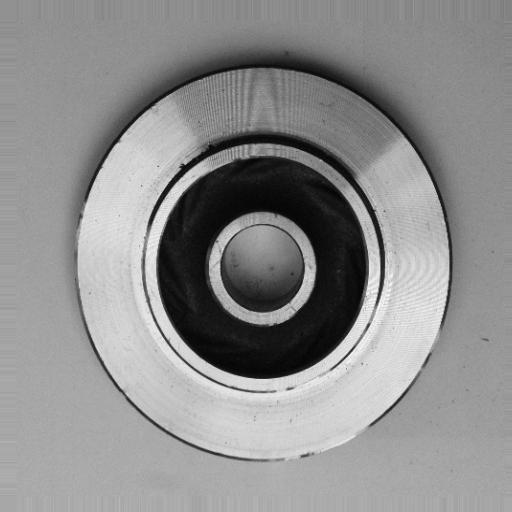crack: (167, 158, 195, 180), (203, 138, 227, 159)
scratch: (267, 365, 347, 396)
unpolished_casting: (77, 64, 453, 464)
